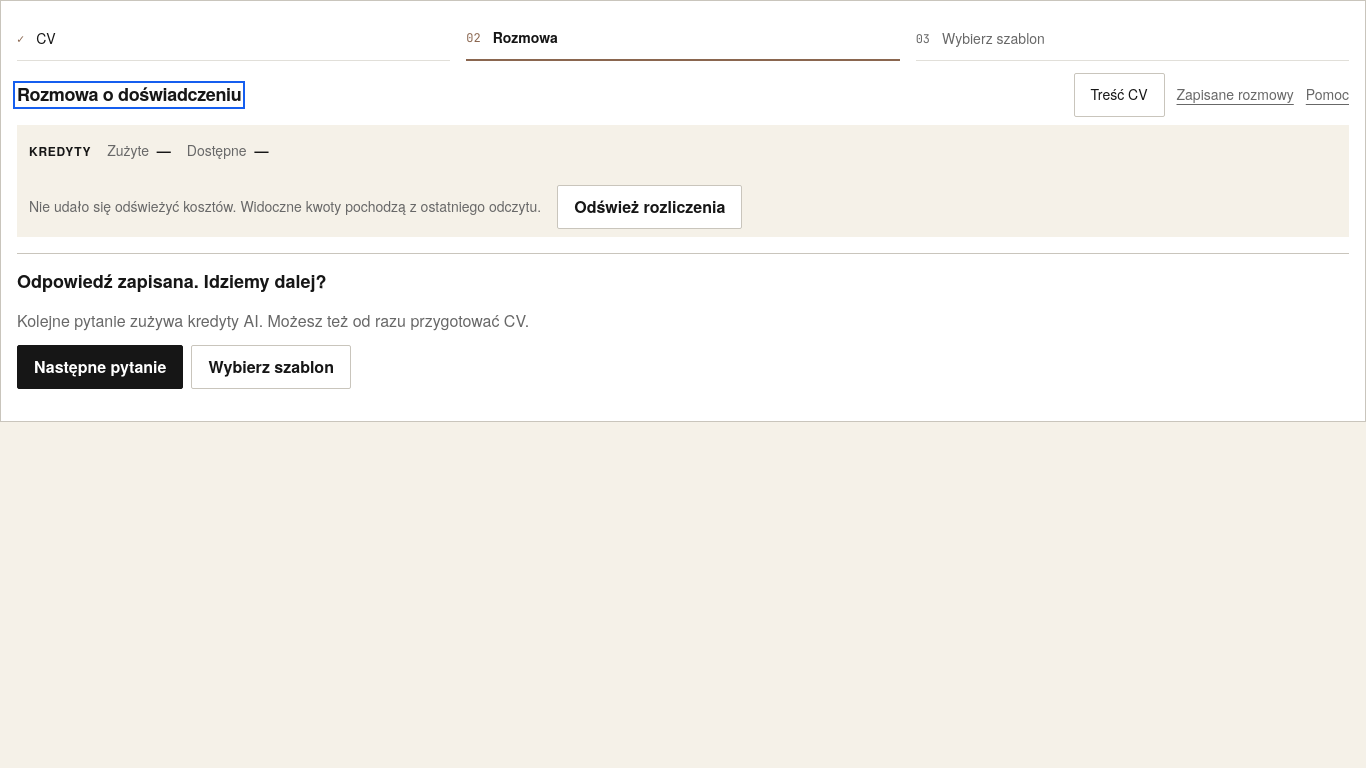
Test: interview workflow › refreshes interrupted generation without retrying AI and preserves its error (read fails: false)
This screenshot has width=1366, height=768.
Click the button "Wybierz szablon".
click(271, 367)  # box x1=191 y1=345 x2=351 y2=389
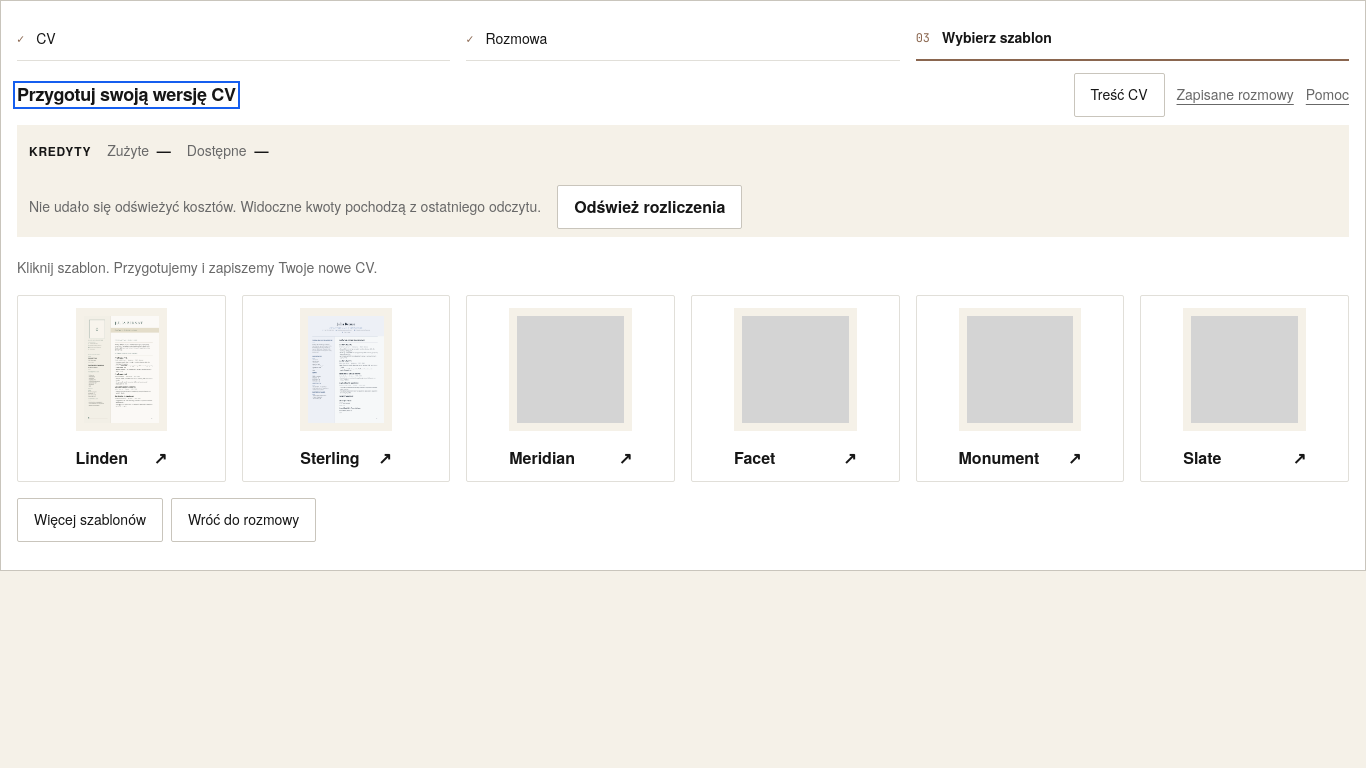
Click the button with aria-label "Utwórz CV · Linden".
click(121, 388)  # box x1=17 y1=295 x2=226 y2=482
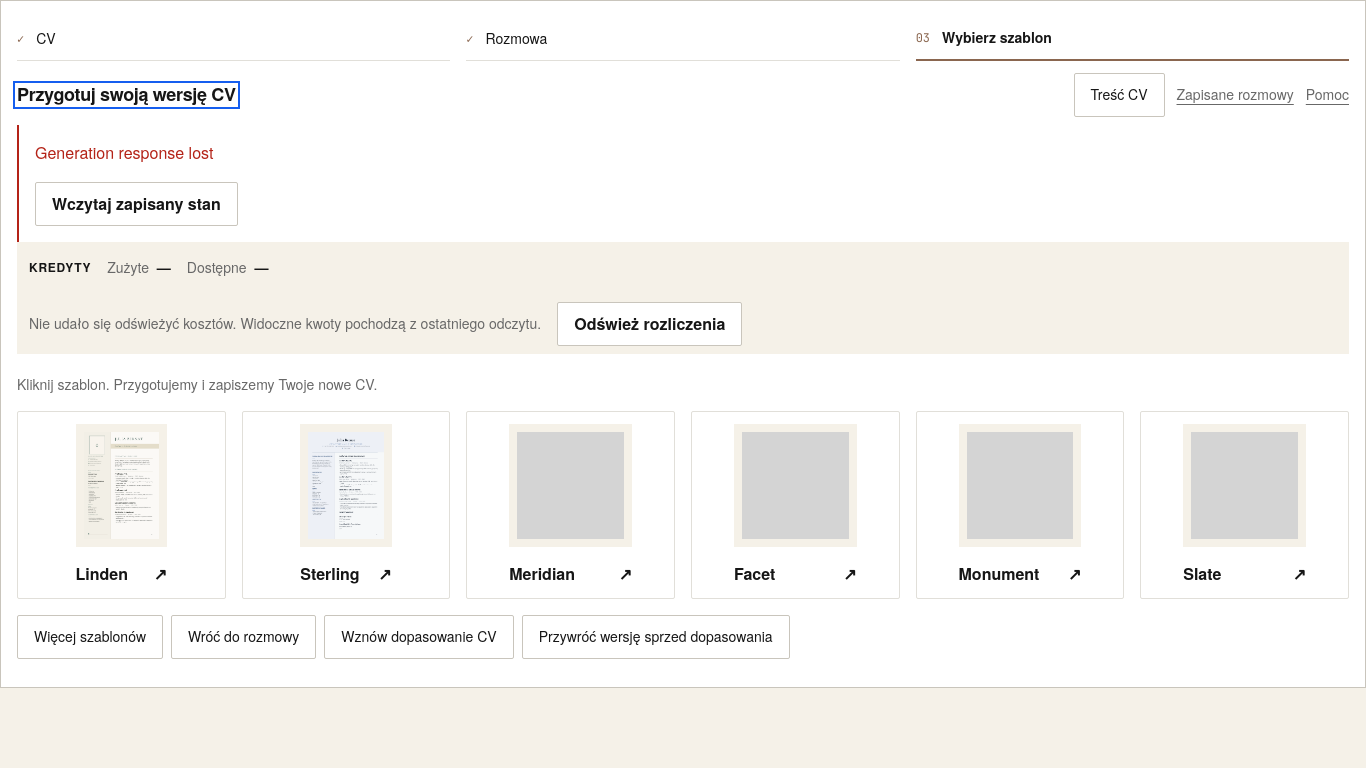
Result: the message "Generation response lost Wczytaj zapisany stan" is shown at x1=17 y1=125 x2=1349 y2=242
Result: the button "Wznów dopasowanie CV" is enabled at x1=324 y1=615 x2=514 y2=659
